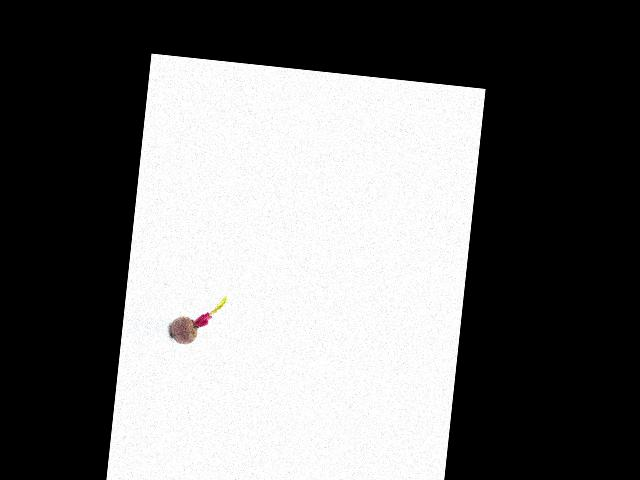beet: (168, 291, 226, 348)
